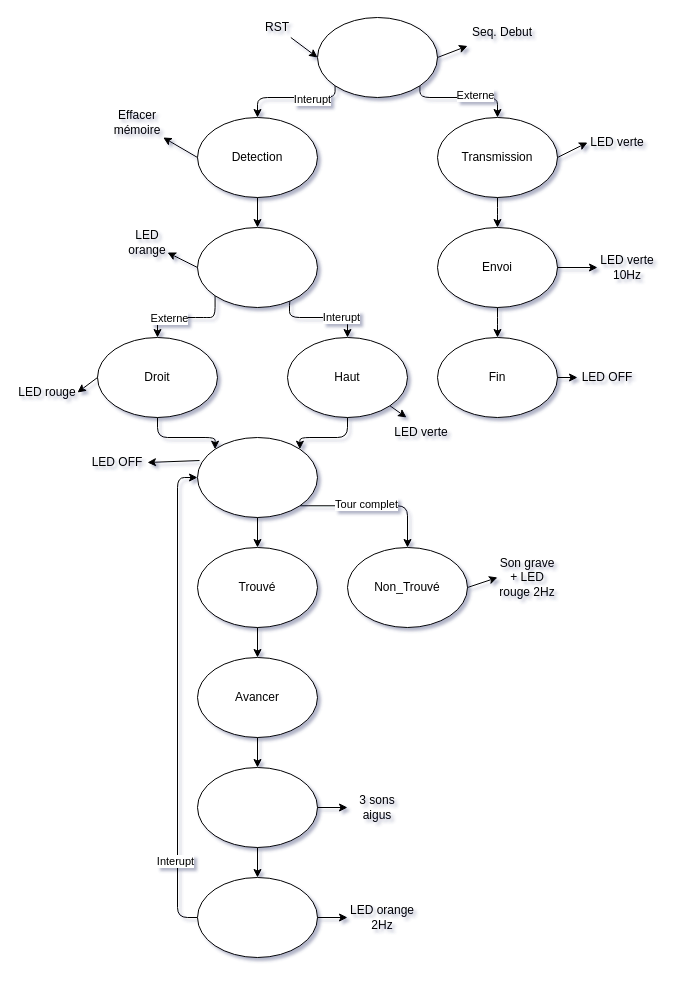
This 680x981 diagram has some shape labels left out. The shapes that lost their labels are listed below. From the top down, each one's box as (x1, y1, x2, y2) in pixels, then its label:
(316, 16, 438, 98): INIT
(196, 226, 318, 308): Attendre 1
(196, 436, 318, 518): Recherche
(196, 766, 318, 848): Proche
(196, 876, 318, 958): Attendre 2
